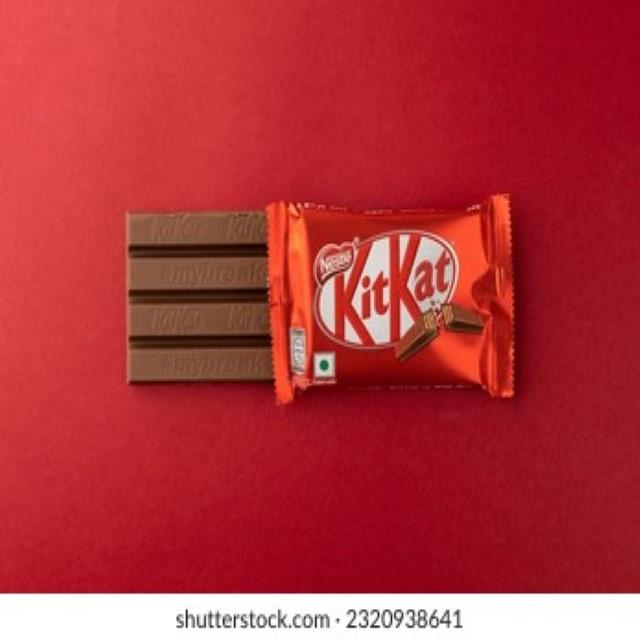kitkat_chocolate: (282, 204, 516, 398)
